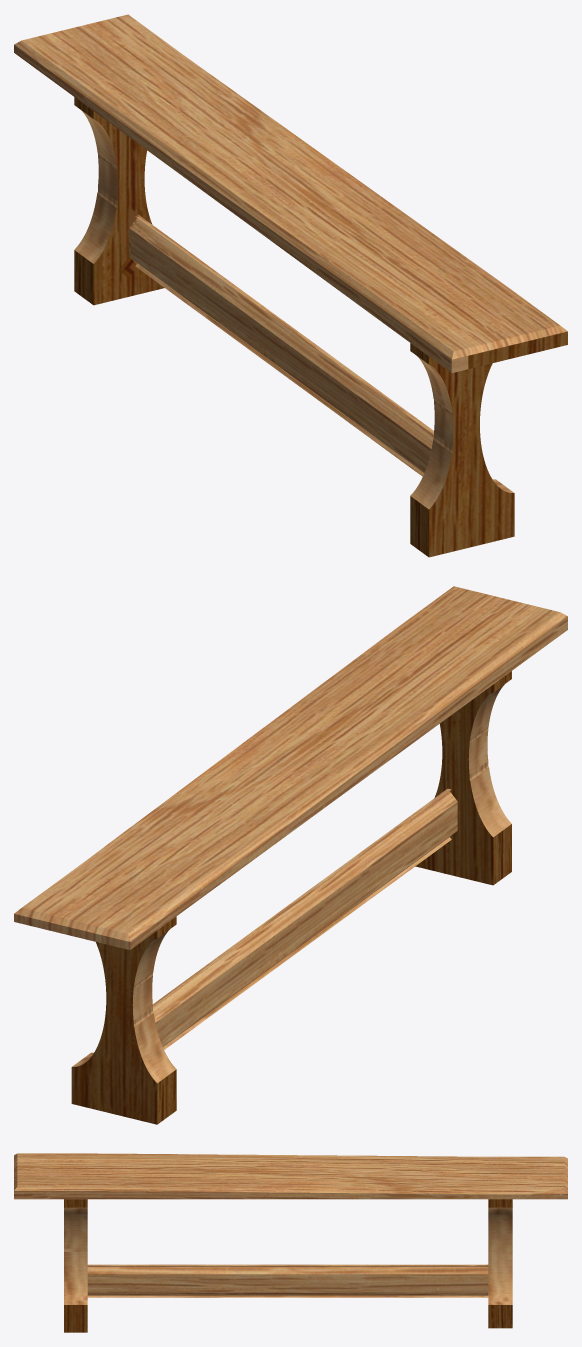
Rendered from cadeira.fbx.
3 views of the same model, one above another, from view 1: azimuth 30°, elevation 25°; view 2: azimuth 150°, elevation 25°; view 3: azimuth 270°, elevation 25° (orthographic). The views are drawn at different scales.
Parts seen in each view (by area): view 1: Cadeira .005; view 2: Cadeira .005; view 3: Cadeira .005.
Boxes of the visible parts, x1,y1,x2,y2 form: Cadeira .005: [14, 14, 567, 557]; Cadeira .005: [14, 586, 567, 1124]; Cadeira .005: [14, 1153, 567, 1332].
Size of the model in its own units: 57.19 by 111 by 373.
